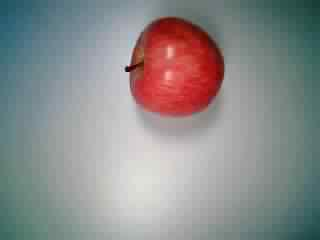apple: (125, 16, 229, 117)
